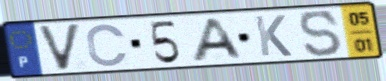5: (147, 19, 183, 65)
A: (190, 16, 247, 63)
C: (84, 22, 131, 69)
K: (252, 14, 295, 58)
S: (297, 9, 345, 59)
V: (35, 22, 83, 73)
